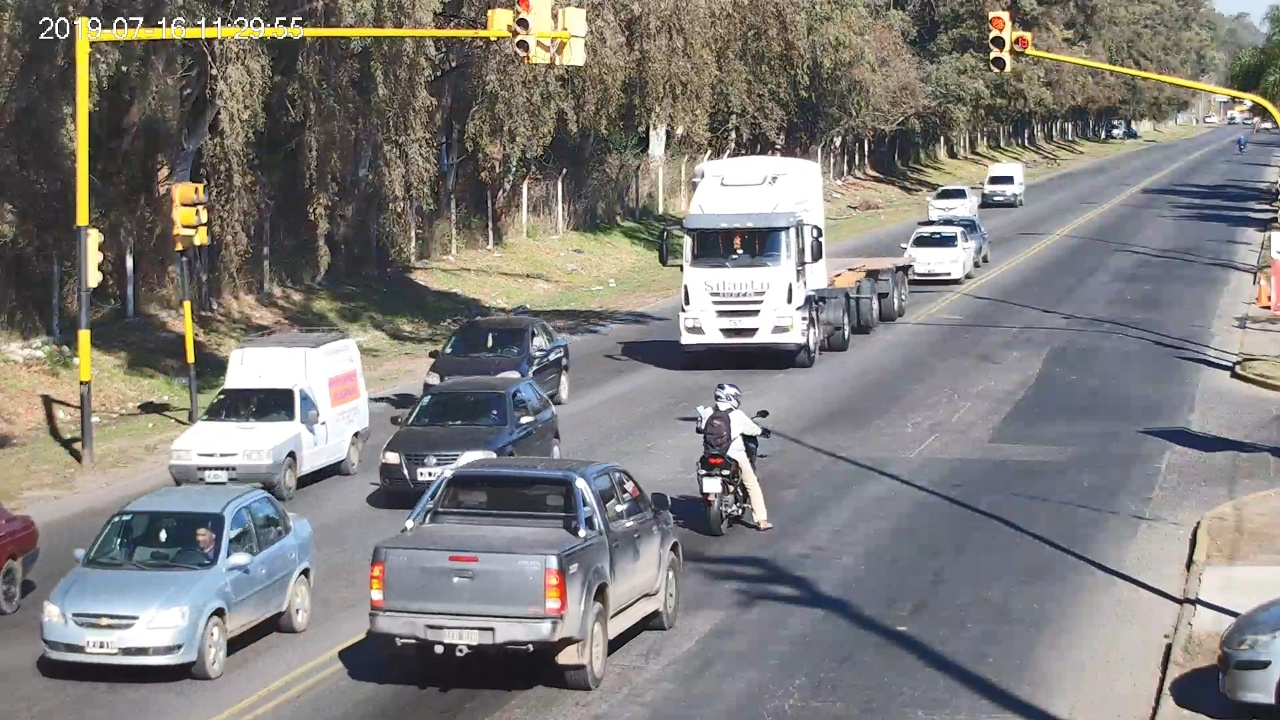car: (369, 459, 684, 690)
front car: (40, 483, 318, 680)
front truck: (660, 156, 915, 367)
motorcycle: (695, 409, 774, 535)
traffic light: (989, 12, 1010, 72)
